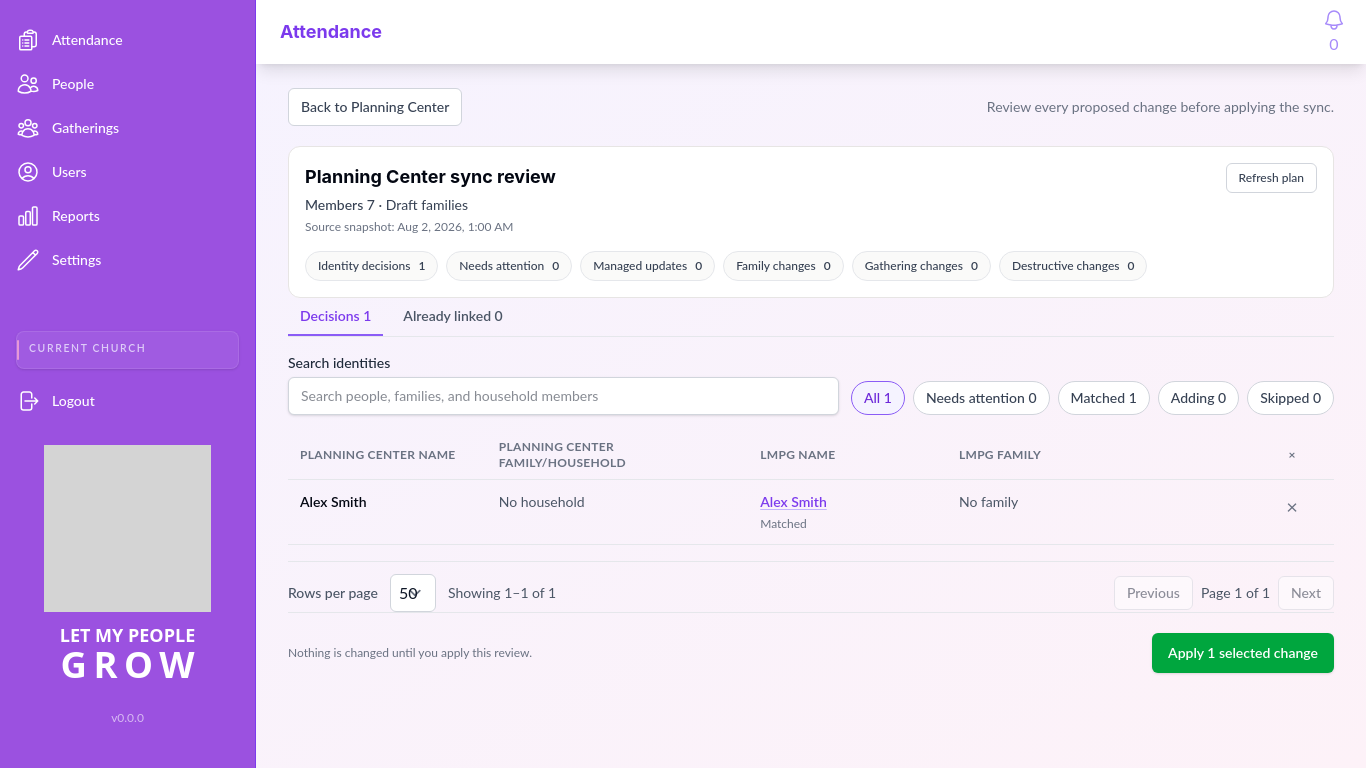
Test: PeopleSyncBatchReviewPage › keeps apply successful and warns while returning when post-apply metadata refresh fails
Expected: the heading "Planning Center sync review" is shown, x1=305 y1=163 x2=556 y2=191
Click the button "Apply 1 selected change": (1243, 653) x1=1152 y1=633 x2=1334 y2=673
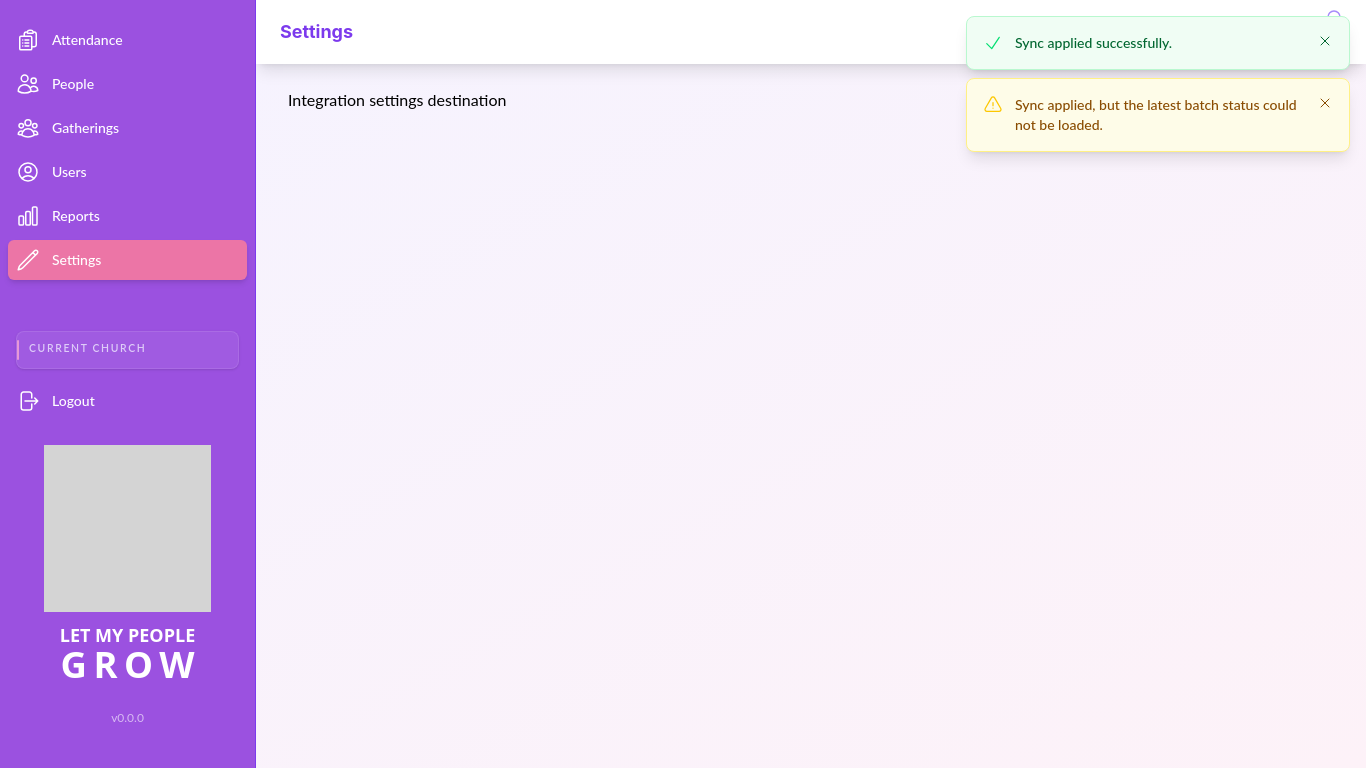
Now the text "Integration settings destination" is shown, box x1=288 y1=90 x2=506 y2=109
Now the text "Sync applied successfully." is shown, box x1=1015 y1=34 x2=1172 y2=51
Now the text "Sync applied, but the latest batch status could not be loaded." is shown, box x1=1015 y1=95 x2=1301 y2=135
